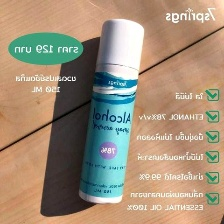aerosol_cans: (73, 12, 151, 207)
